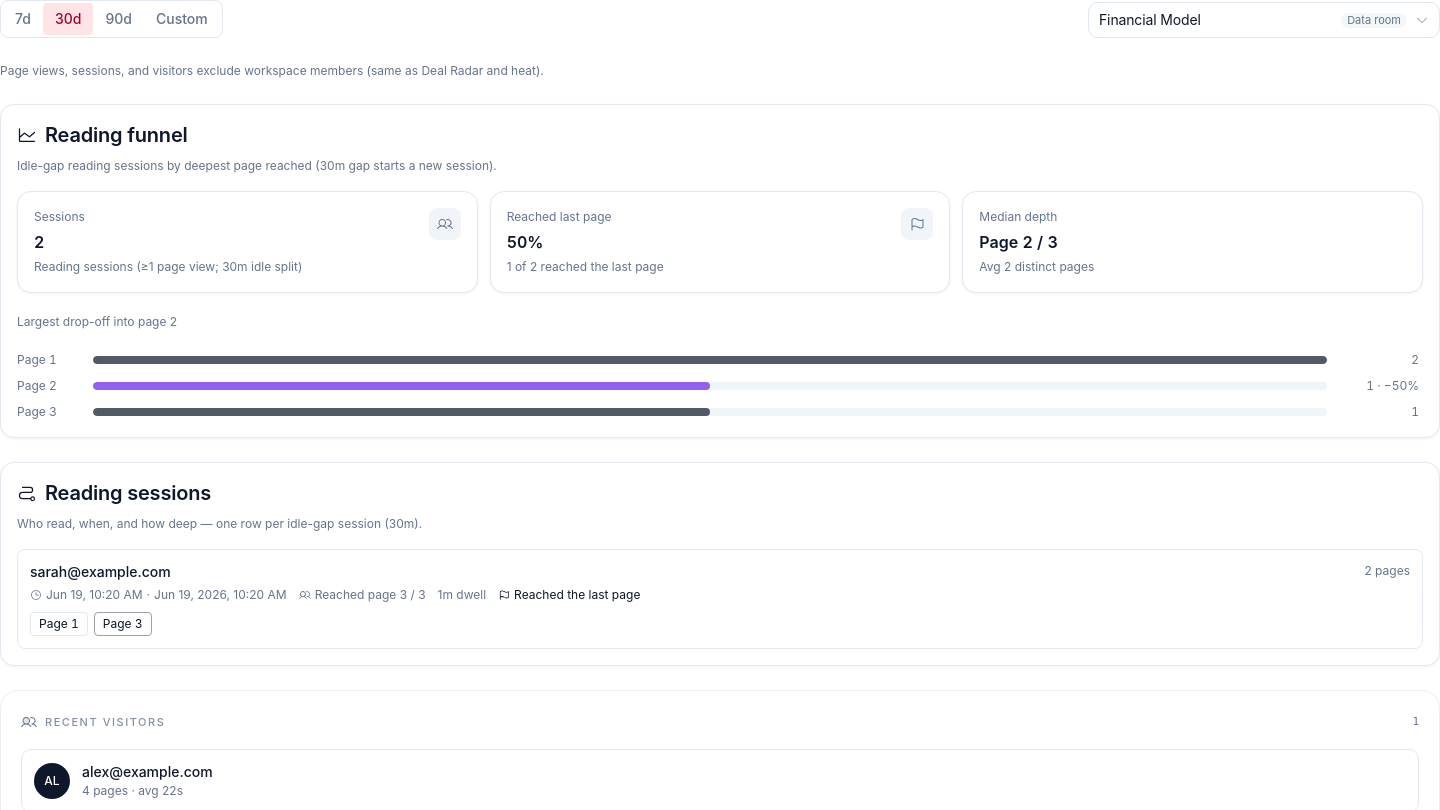
Test: InsightsPagesPage › opens a room directory first when many data rooms exist
Click the dropdown with test id "insights-document-picker" at (1150, 20), box [1088,2,1439,38]
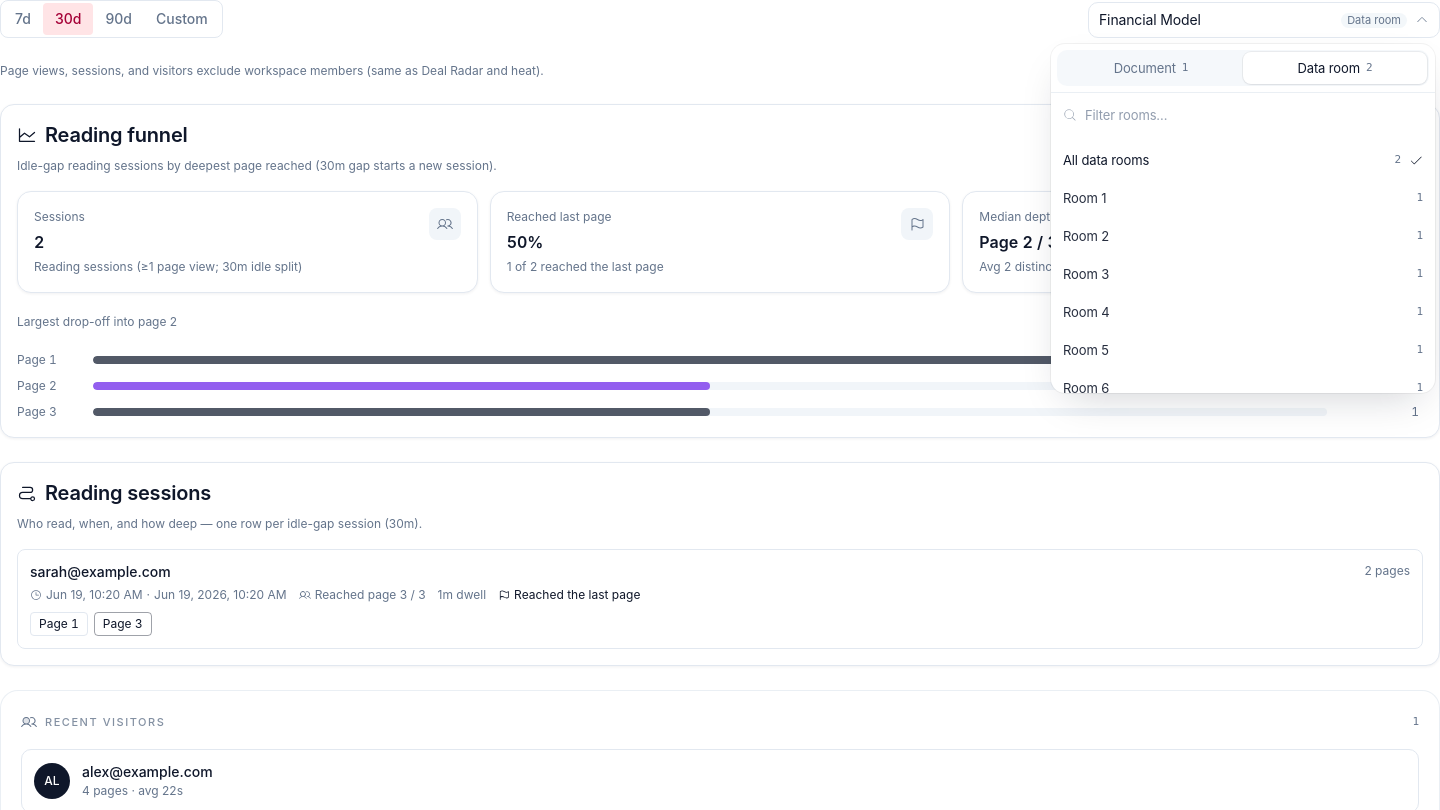
Expected: the field with placeholder "Search files" is not shown
Expected: the field with test id "insights-doc-room-search" is shown, [1085,99,1423,131]
Click the button with test id "insights-doc-room-room-5" at (1086, 388), box [1055,369,1431,407]
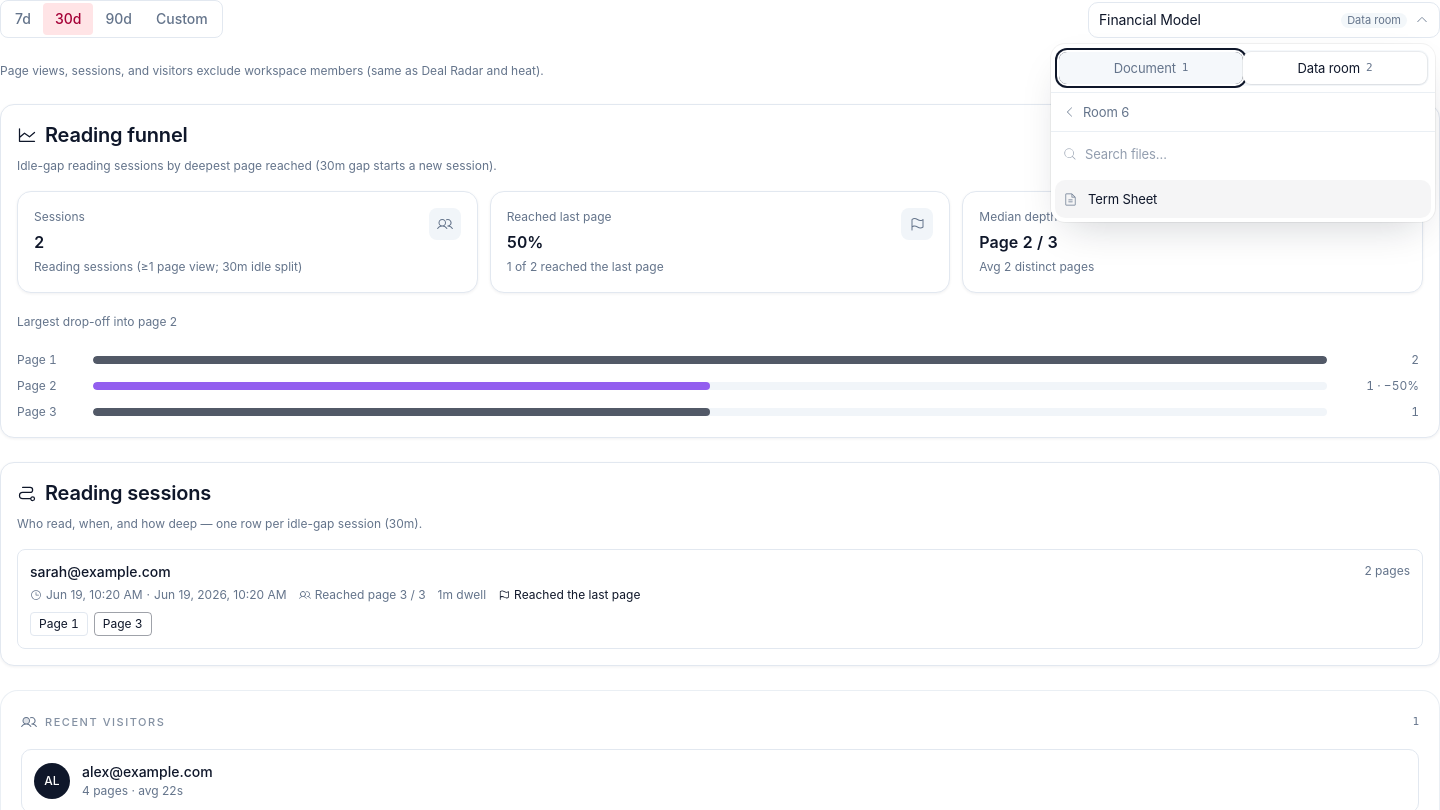
Expected: the button with test id "insights-doc-room-back" reads "Room 6", [1051,92,1435,131]
Expected: the dropdown with placeholder "Search files…" is shown, [1085,138,1423,170]
